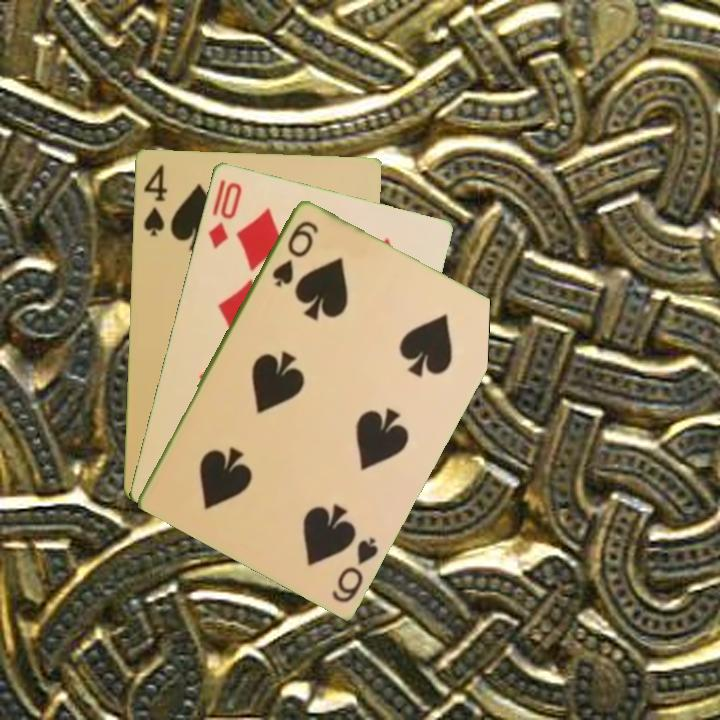10d: (204, 178, 245, 252)
4s: (139, 160, 169, 239)
6s: (268, 216, 322, 290), (328, 533, 382, 605)
